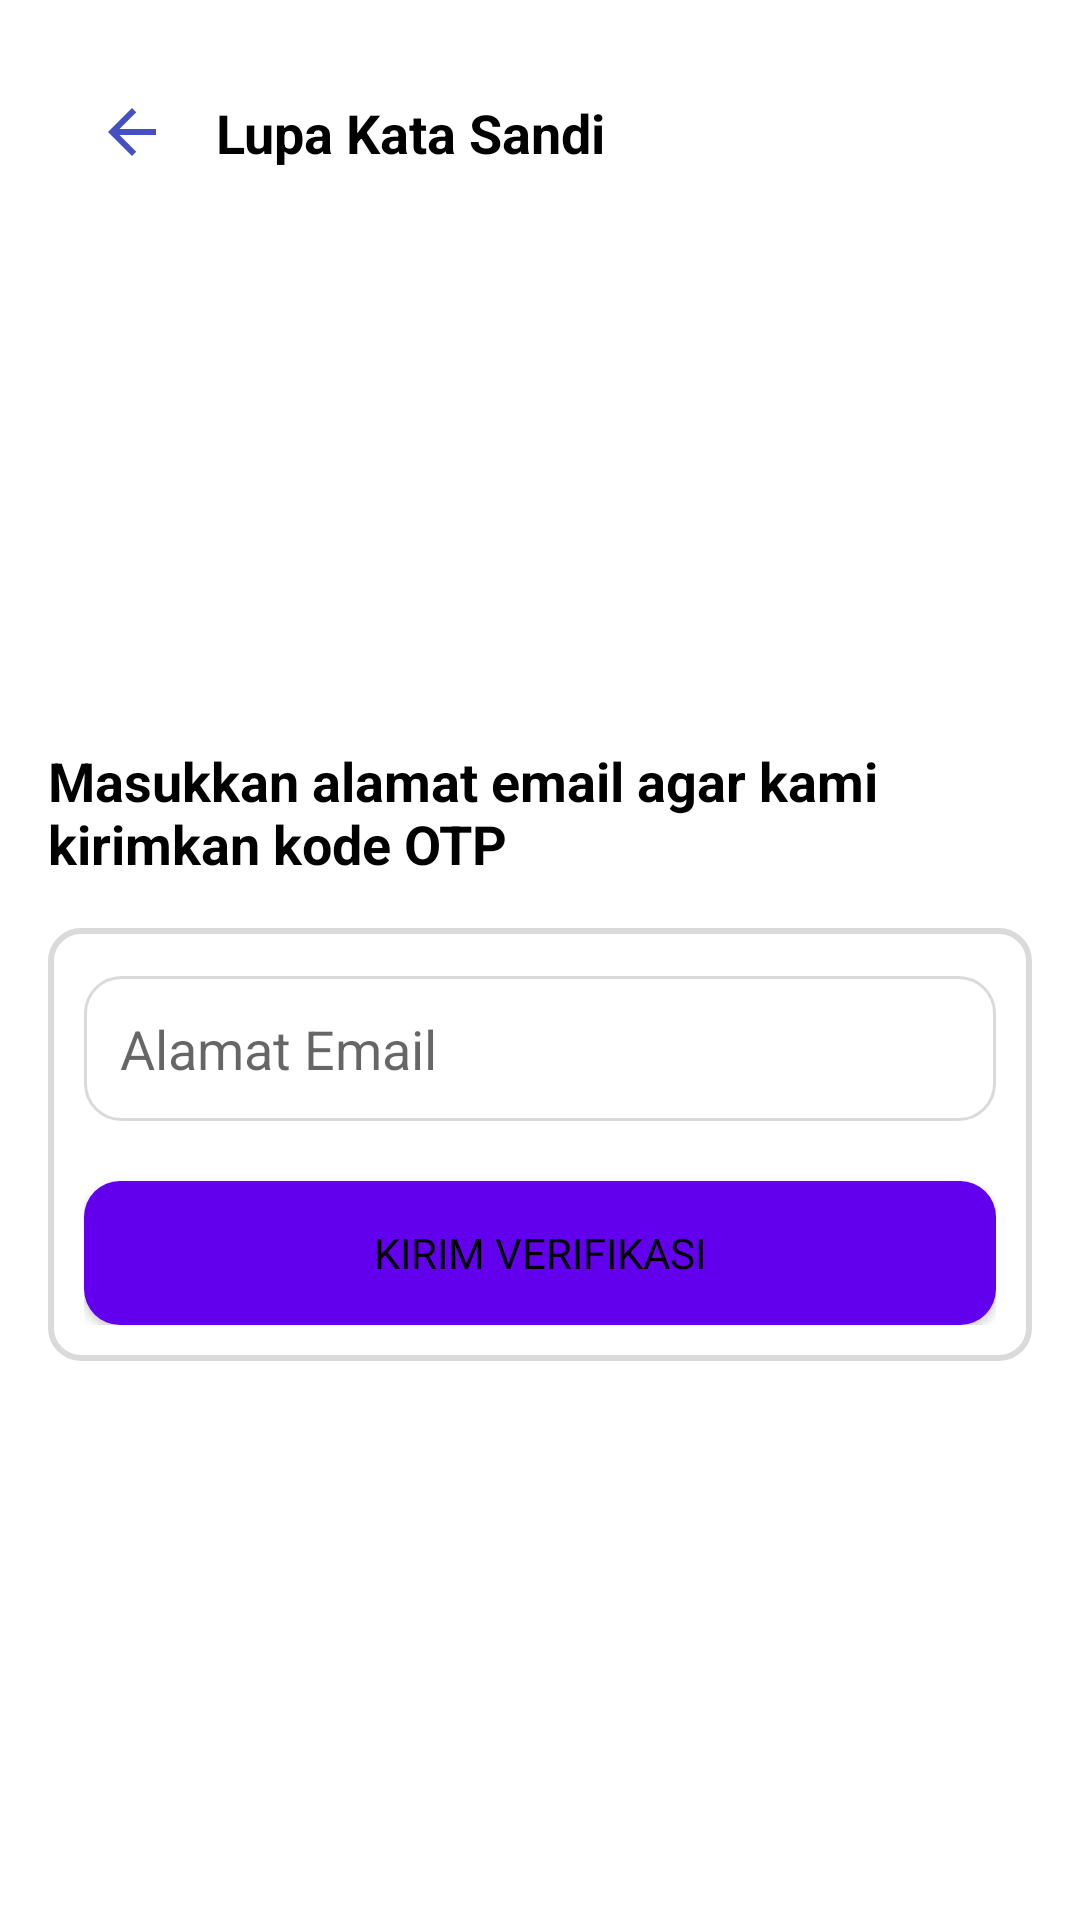

Where icons sit on this 1080×1920 app screen, as [x1,y1,x2,y2]:
Kembali: [108,108,156,156]
